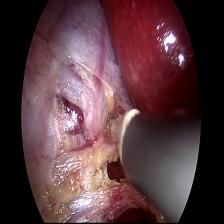Hook: (108, 104, 137, 174)
